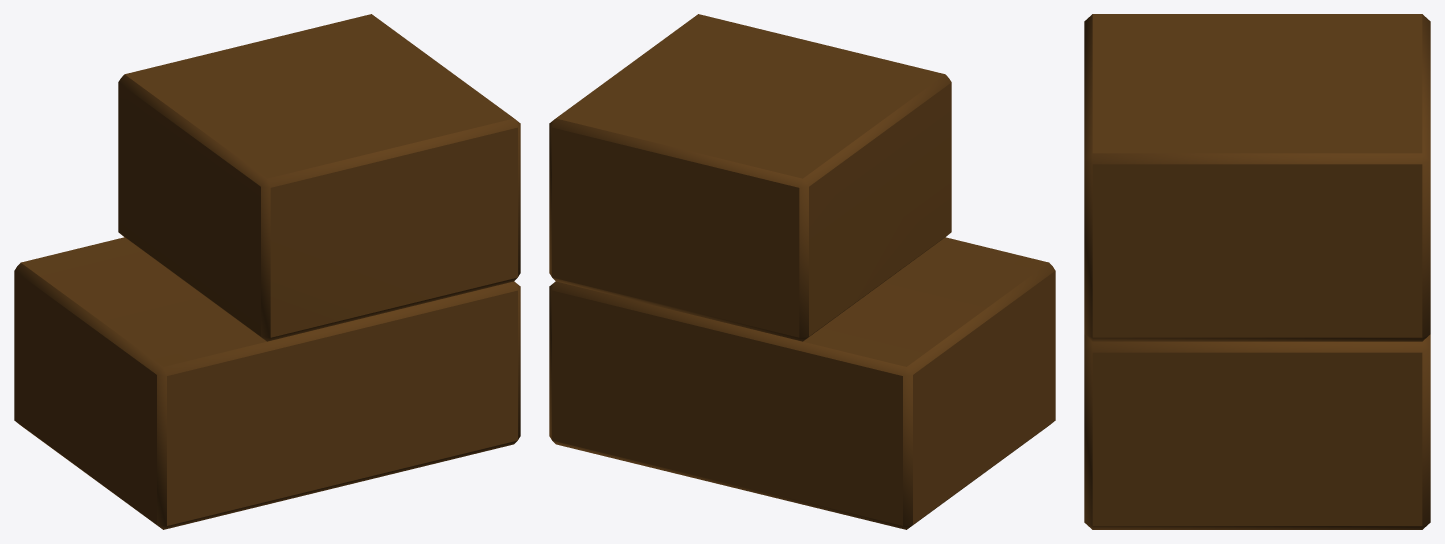
Rendered from school-step-stool.glb.
The picture shows the model from 3 angles, left to right: view 1: azimuth 30°, elevation 25°; view 2: azimuth 150°, elevation 25°; view 3: azimuth 270°, elevation 25°; orthographic projection. The views are drawn at different scales.
Parts seen in each view (by area): view 1: stool__wood; view 2: stool__wood; view 3: stool__wood.
Boxes of the visible parts, x1,y1,x2,y2 form: stool__wood: (14, 14, 520, 529); stool__wood: (549, 14, 1055, 529); stool__wood: (1084, 14, 1430, 529).
Bounding box in the file's own units: 0.35 × 0.3 × 0.25.
